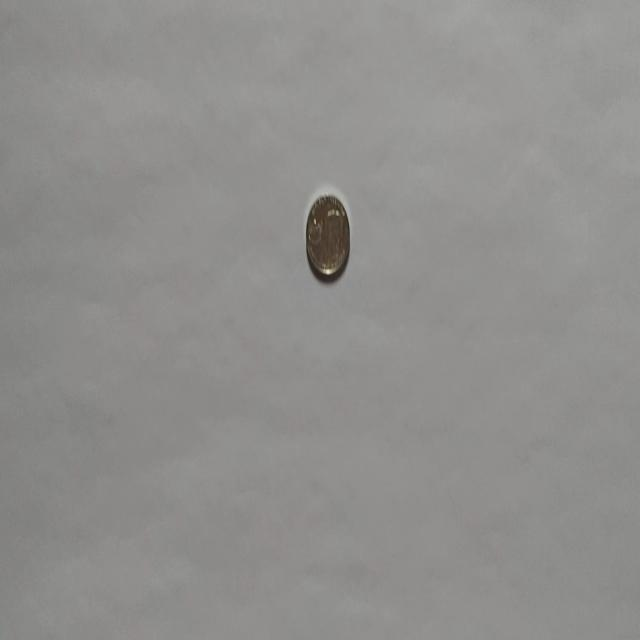seratus rupiah: (304, 191, 350, 279)
